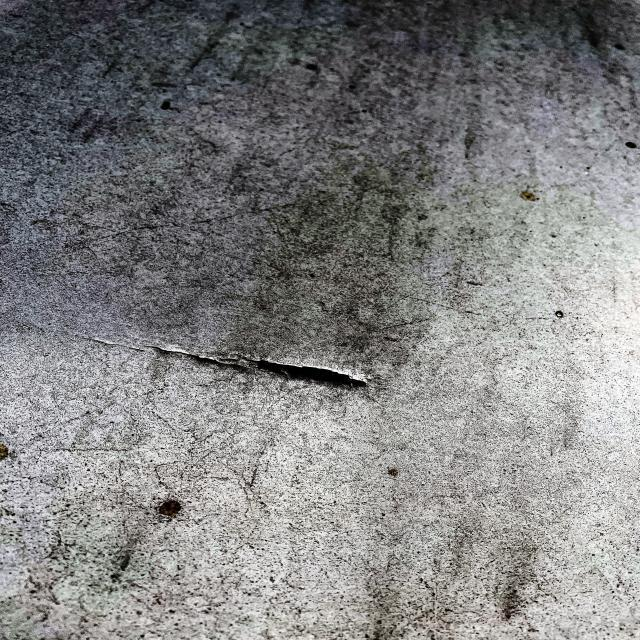crack: (150, 342, 349, 397)
